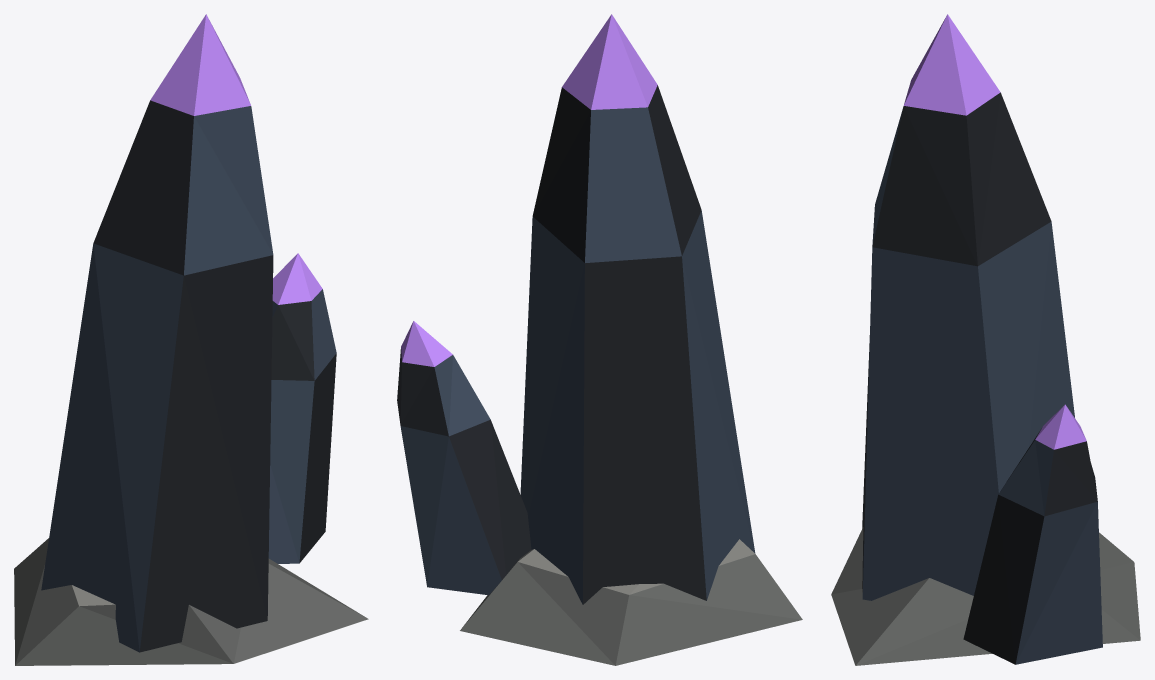
File: obsidian_shard_s.fbx
3 renders of one model, left to right at view 1: azimuth 30°, elevation 25°; view 2: azimuth 150°, elevation 25°; view 3: azimuth 270°, elevation 25°, orthographic. The views are drawn at different scales.
Parts seen in each view (by area): view 1: obsidian_shard_s; view 2: obsidian_shard_s; view 3: obsidian_shard_s.
Part boxes in pixels (bbox=[...]): obsidian_shard_s: bbox=[14, 14, 368, 665]; obsidian_shard_s: bbox=[397, 14, 802, 665]; obsidian_shard_s: bbox=[831, 14, 1140, 665].
Bounding box in the file's own units: 0.4072 × 0.62 × 0.2921.
